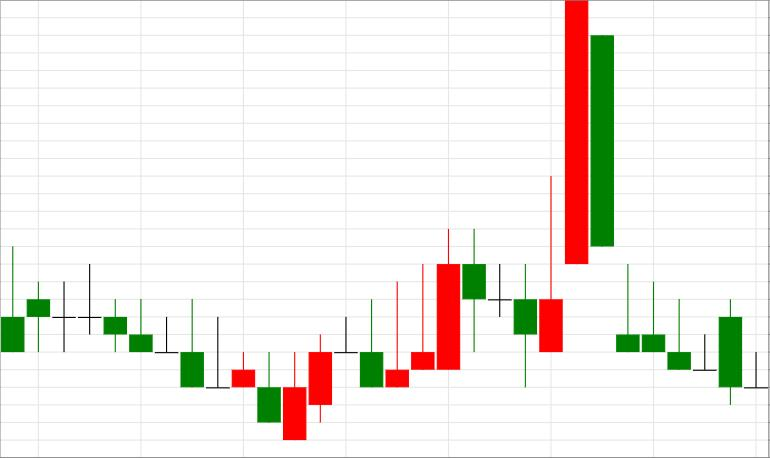bullish_engulfing_rise: (78, 264, 306, 440)
